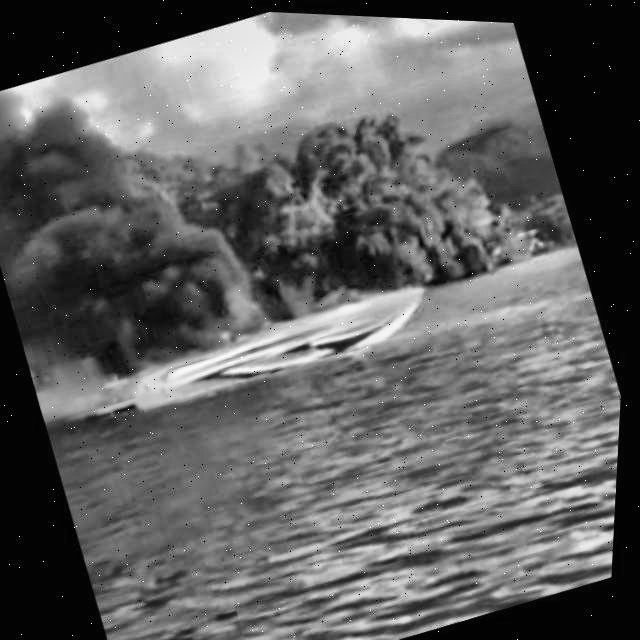Fire: (204, 273, 283, 351)
